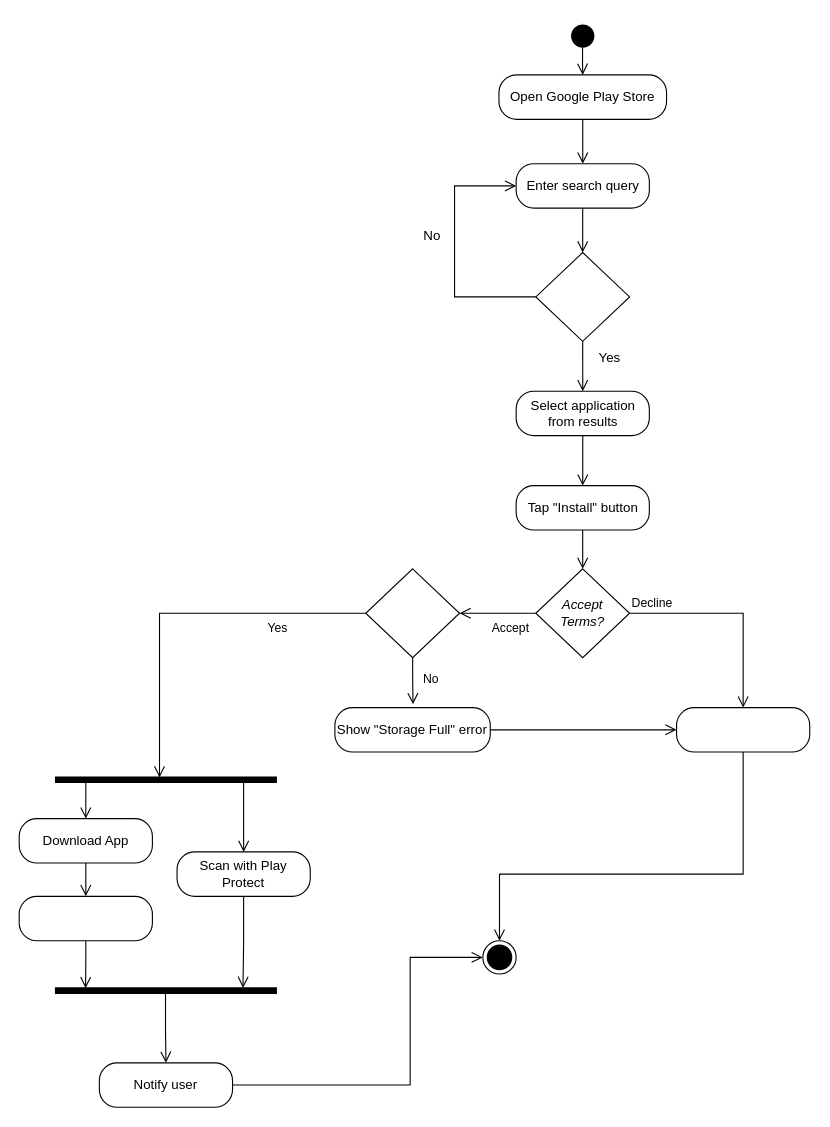
The diagram is 830 pixels wide and 1127 high, and some of its shapes have lost their labels. Here are the shapes that lost their labels. From the top down, the box of each, then its label:
(535, 251, 630, 341): App found?
(365, 568, 460, 658): Enough space?
(675, 707, 810, 752): Cancel Installation
(18, 895, 152, 941): Install App
